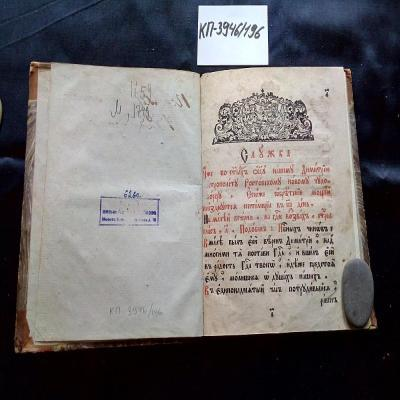rare_books: (12, 62, 380, 358)
